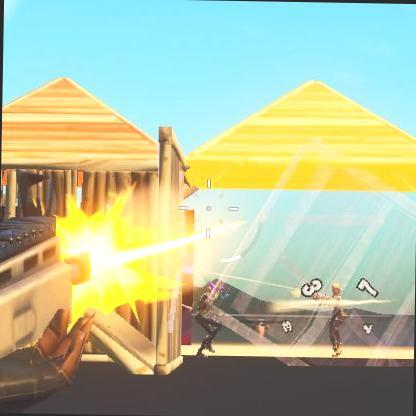person: (200, 282, 221, 345), (326, 306, 346, 355)
